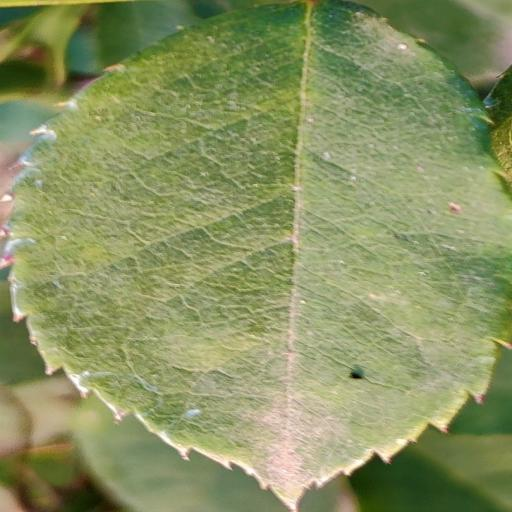healthy_leaf: (11, 0, 511, 507)
